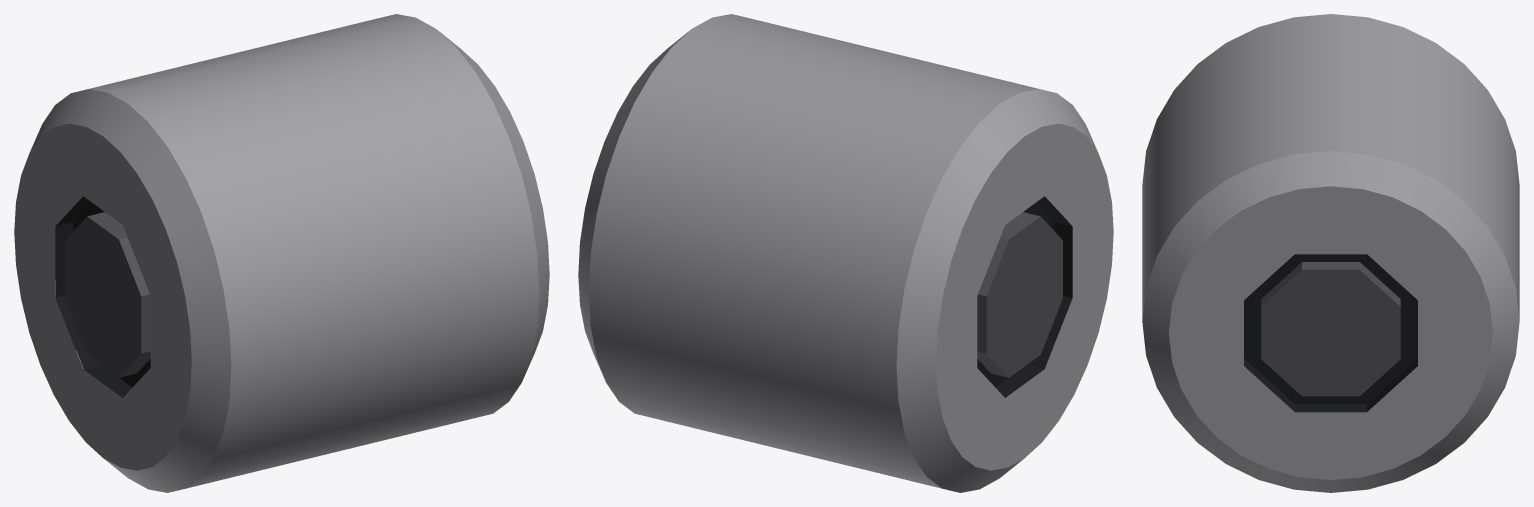
File: model_tank.gltf
3 views of the same model, side by side, from view 1: azimuth 30°, elevation 25°; view 2: azimuth 150°, elevation 25°; view 3: azimuth 270°, elevation 25° (orthographic). The views are drawn at different scales.
Parts seen in each view (by area): view 1: model_tank; view 2: model_tank; view 3: model_tank.
Boxes of the visible parts, left/top/right/bottom form: model_tank: left=14, top=14, right=549, bottom=492; model_tank: left=578, top=14, right=1113, bottom=492; model_tank: left=1142, top=14, right=1519, bottom=492.
Bounding box in the file's own units: 1 × 1 × 1.
1 material, 1 textured.
